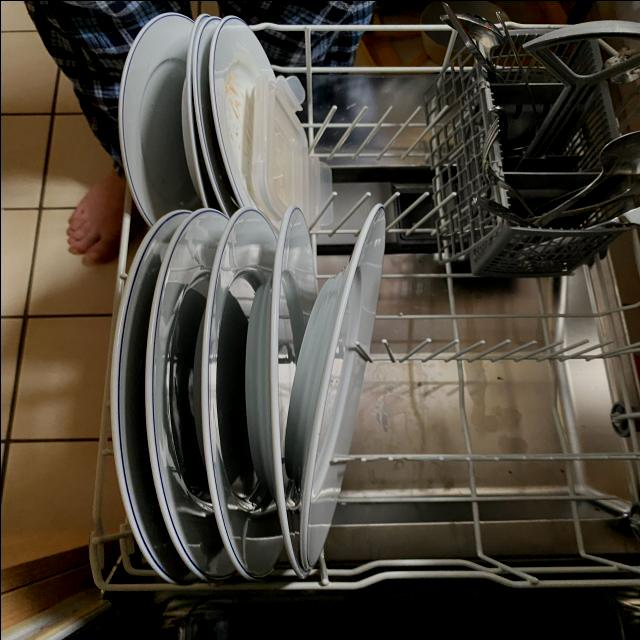clutery_bin: (482, 13, 628, 233)
empty_slot: (400, 277, 630, 545), (310, 36, 444, 221)
